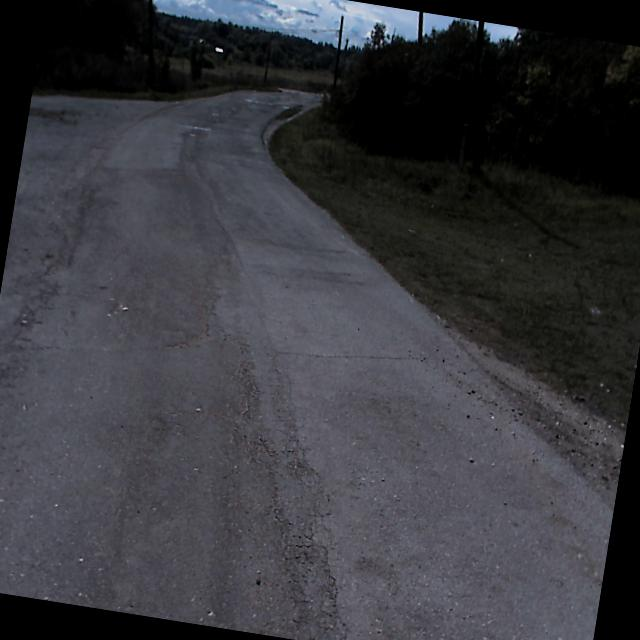road: (0, 88, 613, 640)
